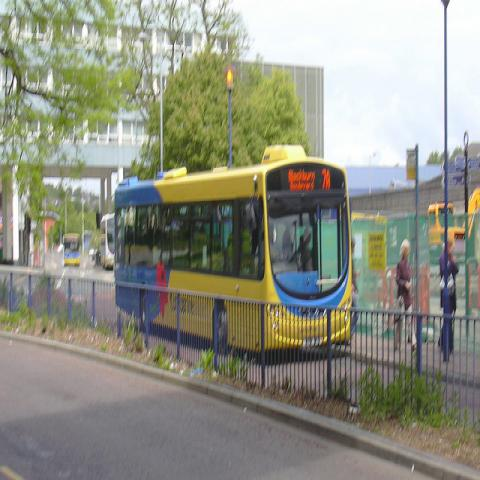bus: (115, 148, 354, 366), (64, 234, 80, 267)
